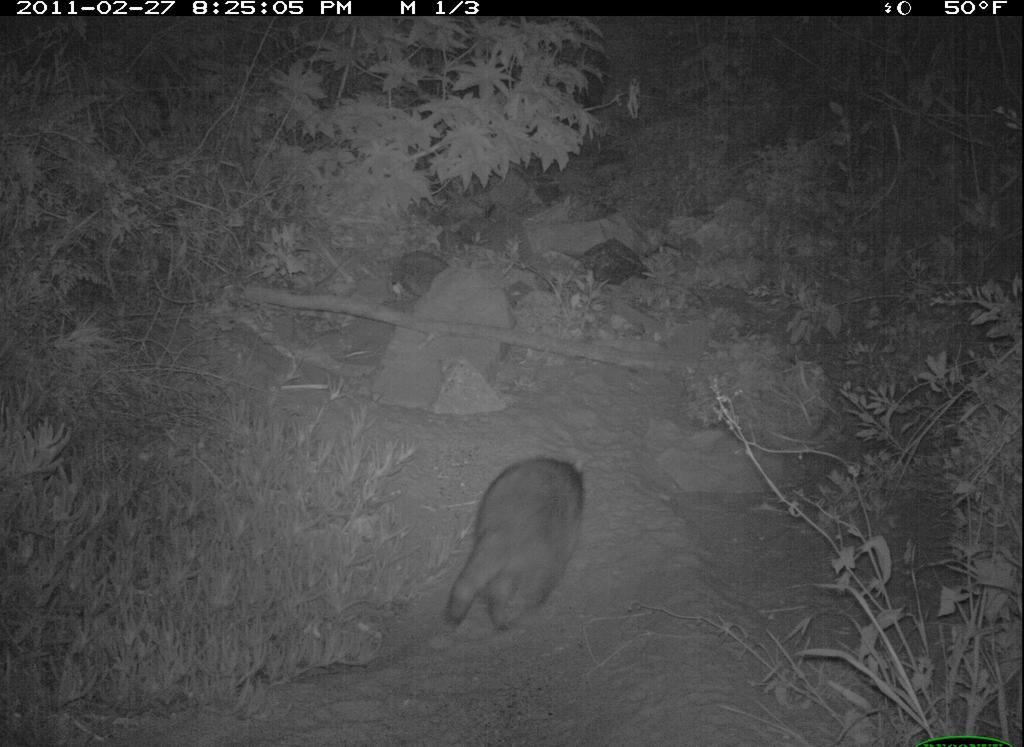raccoon: (434, 438, 611, 655)
